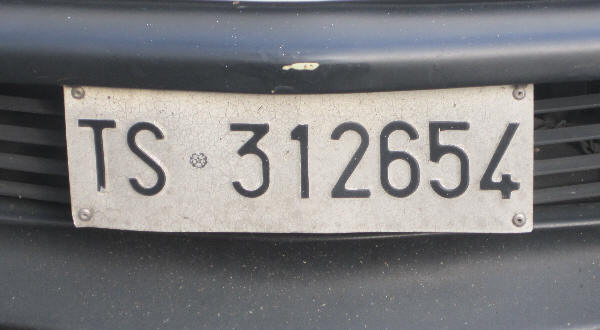license_plate: (64, 86, 535, 234)
